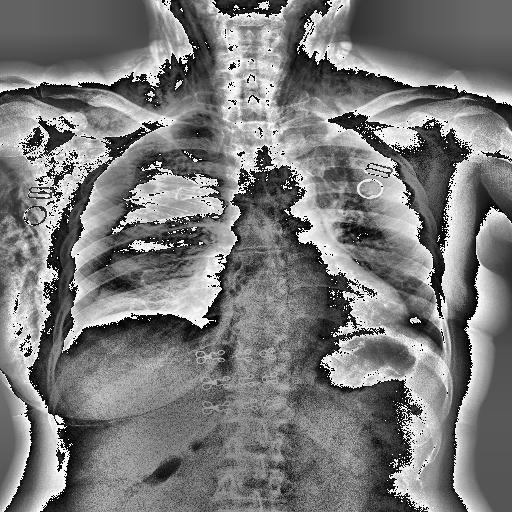12- Pneumothorax: (61, 111, 222, 347)
7- Lung Opacity: (66, 135, 229, 335)
9- Other lesion: (75, 11, 434, 122), (94, 10, 391, 103), (56, 166, 222, 324), (72, 134, 200, 312), (2, 122, 68, 382), (0, 150, 61, 386), (278, 10, 386, 108), (124, 0, 218, 106), (4, 160, 48, 366)
